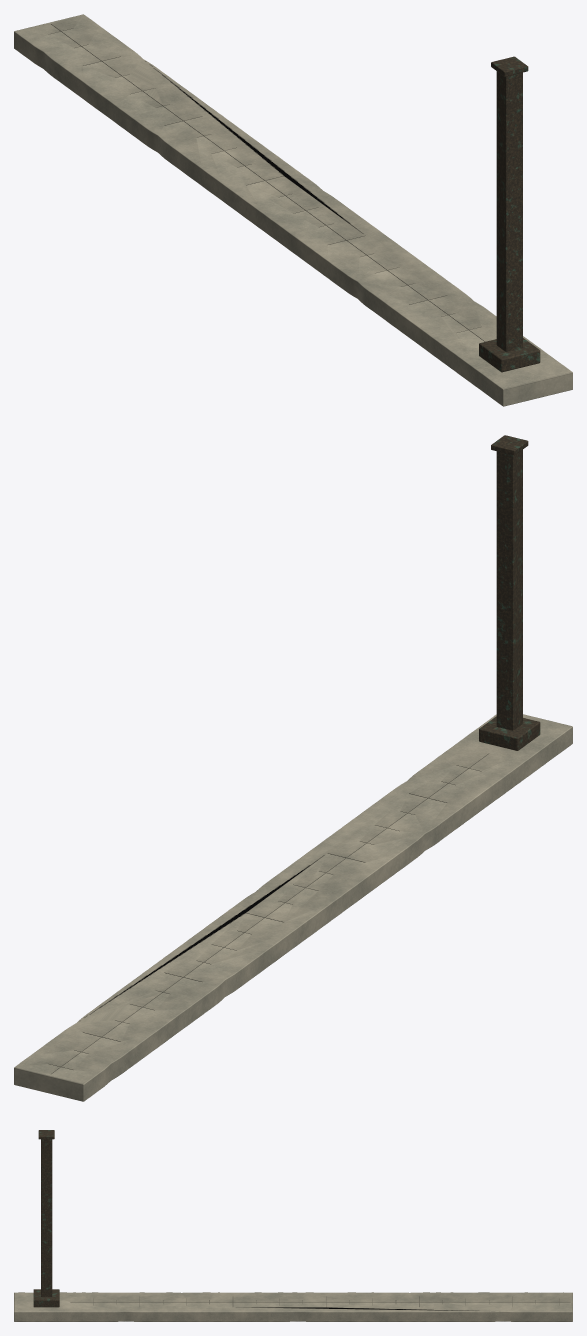
The model's file is guibiao-aged-v2.glb.
The picture shows the model from 3 angles, top to bottom: view 1: azimuth 30°, elevation 25°; view 2: azimuth 150°, elevation 25°; view 3: azimuth 270°, elevation 25°; orthographic projection. The views are drawn at different scales.
Visible parts, largest first — view 1: Stone_Gui — flat measuring surface, chipped edges, Bronze_Post — square upright, Bronze_Mount — small worn socket, Bronze_Cap — level measuring top; view 2: Stone_Gui — flat measuring surface, chipped edges, Bronze_Post — square upright, Bronze_Mount — small worn socket; view 3: Stone_Gui — flat measuring surface, chipped edges, Bronze_Post — square upright, Bronze_Mount — small worn socket.
Boxes of the visible parts, x1,y1,x2,y2 form: Stone_Gui — flat measuring surface, chipped edges: (14,14,572,406); Bronze_Post — square upright: (496,71,522,351); Bronze_Mount — small worn socket: (479,338,540,372); Bronze_Cap — level measuring top: (491,56,528,76); Stone_Gui — flat measuring surface, chipped edges: (14,714,572,1101); Bronze_Post — square upright: (496,450,522,730); Bronze_Mount — small worn socket: (479,716,540,750); Stone_Gui — flat measuring surface, chipped edges: (14,1292,572,1321); Bronze_Post — square upright: (41,1139,52,1296); Bronze_Mount — small worn socket: (33,1289,59,1307).
Size of the model in its own units: 0.4984 by 2.12 by 6.
2 materials, 2 textured.
